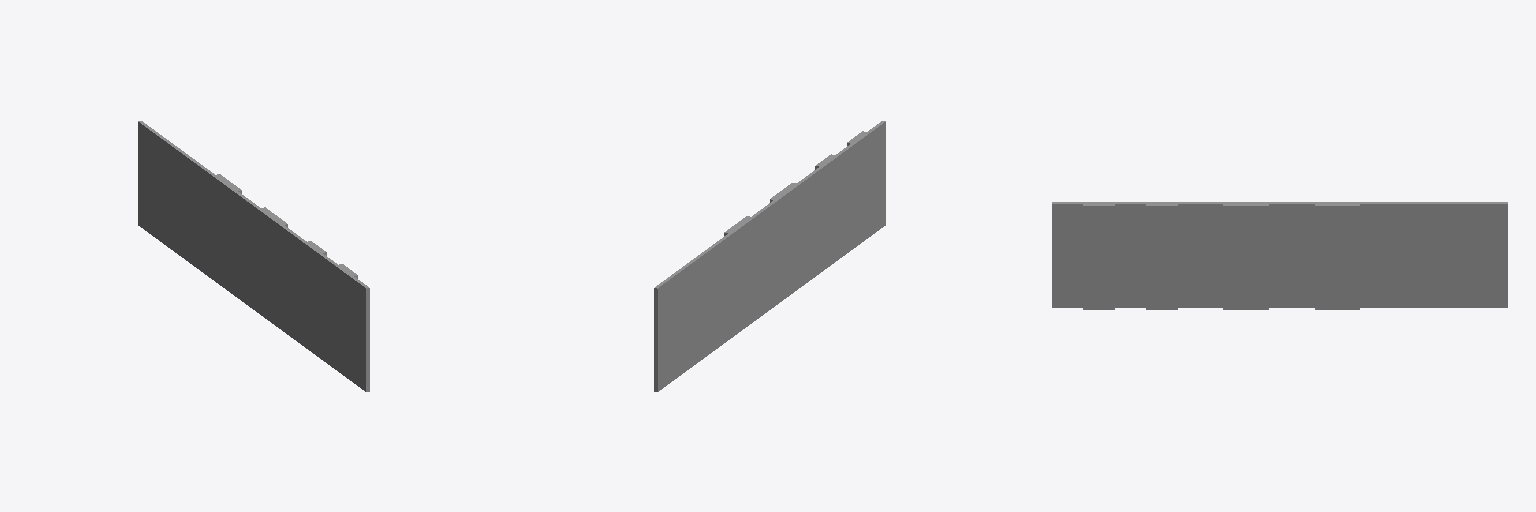
The model's file is Wall_Left.obj.
3 views of the same model, side by side, from view 1: azimuth 30°, elevation 25°; view 2: azimuth 150°, elevation 25°; view 3: azimuth 270°, elevation 25° (orthographic).
Parts seen in each view (by area): view 1: Wall_Left_Cube.004; view 2: Wall_Left_Cube.004; view 3: Wall_Left_Cube.004.
Part boxes in pixels (left/top/right/bottom): Wall_Left_Cube.004: left=138, top=121, right=369, bottom=391; Wall_Left_Cube.004: left=654, top=121, right=885, bottom=391; Wall_Left_Cube.004: left=1052, top=202, right=1507, bottom=309.
Bounding box in the file's own units: 0.4837 × 6.43 × 25.63.